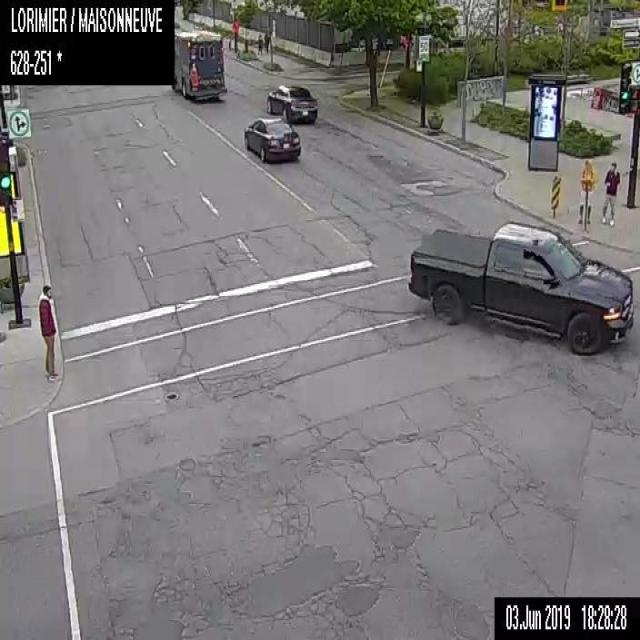pedestrian: (37, 284, 59, 380), (599, 159, 619, 224), (577, 158, 595, 223), (255, 32, 263, 54), (263, 32, 269, 52)
vehicle: (408, 220, 634, 352), (171, 34, 226, 99), (244, 116, 301, 162), (266, 84, 316, 123)
